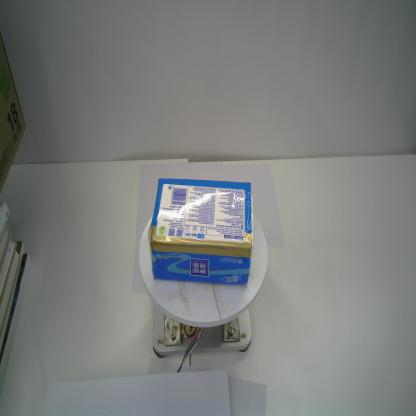Tissue: (147, 177, 255, 286)
